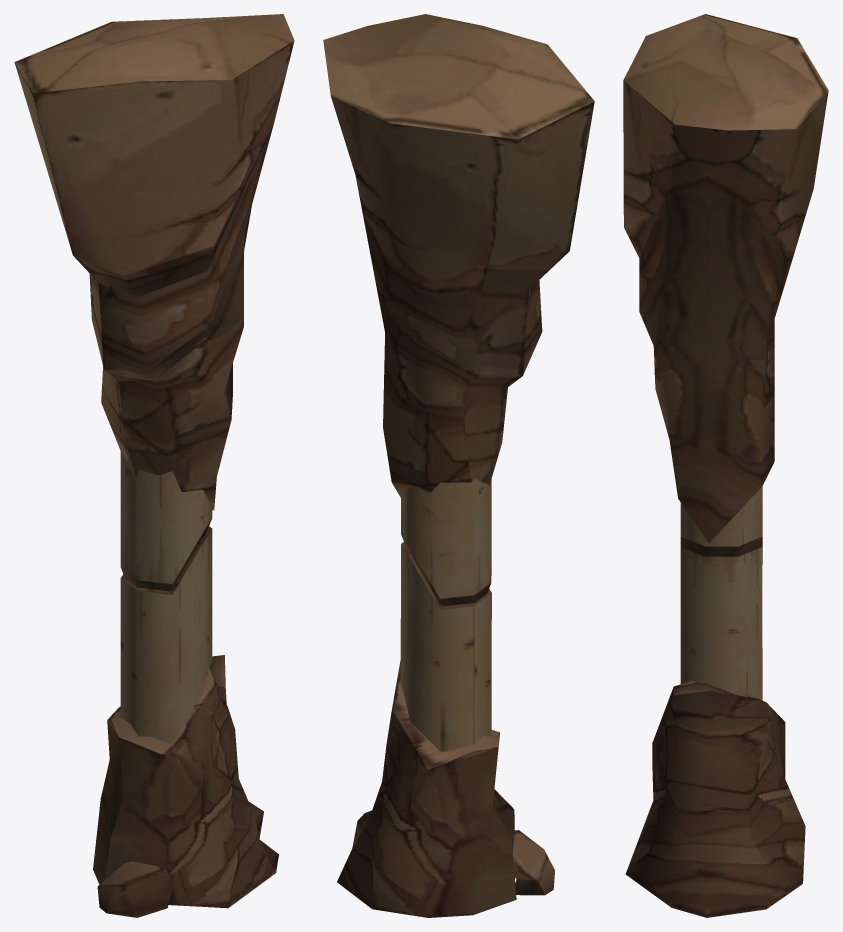
File: 2_DG_ShiZhu_01.FBX
The picture shows the model from 3 angles, left to right: view 1: azimuth 30°, elevation 25°; view 2: azimuth 150°, elevation 25°; view 3: azimuth 270°, elevation 25°; orthographic projection. The views are drawn at different scales.
Visible parts, largest first — view 1: 2_DG_ShiZhu_01_01, 2_DG_ShiZhu_01_03, 2_DG_ShiZhu_01_02; view 2: 2_DG_ShiZhu_01_01, 2_DG_ShiZhu_01_03, 2_DG_ShiZhu_01_02; view 3: 2_DG_ShiZhu_01_01, 2_DG_ShiZhu_01_03, 2_DG_ShiZhu_01_02.
Boxes of the visible parts, x1,y1,x2,y2 form: 2_DG_ShiZhu_01_01: [14, 14, 294, 510]; 2_DG_ShiZhu_01_03: [93, 526, 278, 917]; 2_DG_ShiZhu_01_02: [120, 450, 212, 591]; 2_DG_ShiZhu_01_01: [323, 14, 594, 497]; 2_DG_ShiZhu_01_03: [337, 542, 555, 917]; 2_DG_ShiZhu_01_02: [401, 478, 491, 606]; 2_DG_ShiZhu_01_01: [623, 14, 828, 543]; 2_DG_ShiZhu_01_03: [625, 547, 805, 917]; 2_DG_ShiZhu_01_02: [680, 486, 762, 564].
Bounding box in the file's own units: 468 × 1457 × 331.
